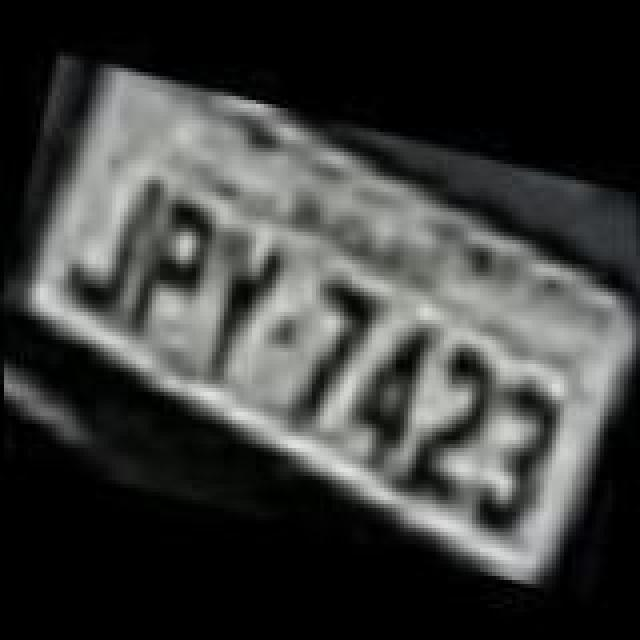2: (386, 334, 510, 518)
3: (440, 366, 568, 546)
4: (326, 296, 446, 476)
7: (266, 260, 390, 444)
J: (44, 160, 160, 324)
P: (114, 182, 226, 346)
Y: (192, 216, 296, 384)
